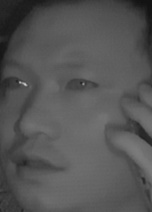eye: (64, 73, 101, 95), (2, 72, 32, 94)
mouth: (9, 142, 68, 181)
